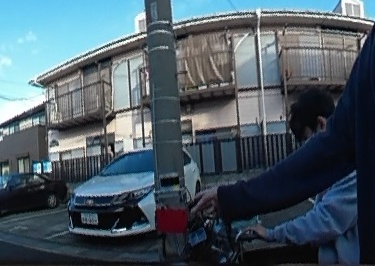person: (280, 86, 372, 266)
